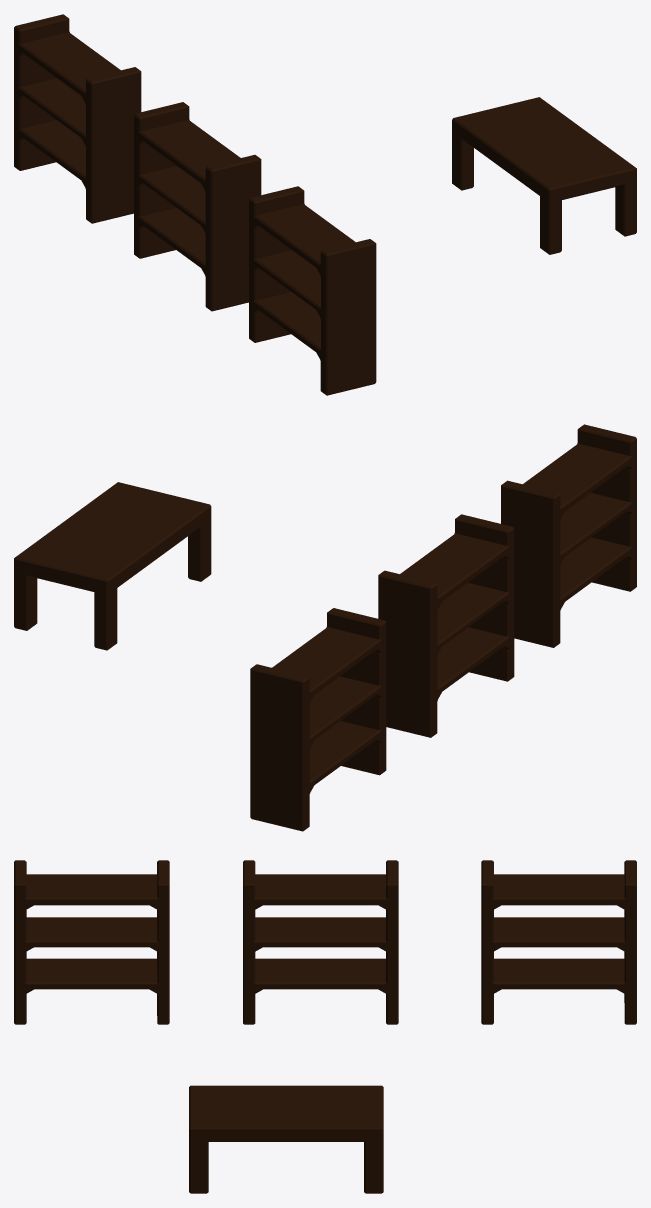
Rendered from shelf+table.fbx.
3 renders of one model, top to bottom at view 1: azimuth 30°, elevation 25°; view 2: azimuth 150°, elevation 25°; view 3: azimuth 270°, elevation 25°, orthographic. The views are drawn at different scales.
Visible parts, largest first — view 1: Shelf001, Shelf002, Shelf000, table; view 2: Shelf002, Shelf000, Shelf001, table; view 3: Shelf002, Shelf001, Shelf000, table.
Boxes of the visible parts, x1,y1,x2,y2 form: Shelf001: [249, 186, 376, 395]; Shelf002: [14, 14, 141, 223]; Shelf000: [134, 102, 261, 311]; table: [452, 97, 636, 254]; Shelf002: [250, 608, 386, 831]; Shelf000: [378, 514, 514, 737]; Shelf001: [501, 424, 636, 647]; table: [14, 482, 211, 650]; Shelf002: [481, 860, 636, 1024]; Shelf001: [14, 860, 169, 1024]; Shelf000: [243, 860, 398, 1024]; table: [189, 1085, 383, 1193].
Size of the model in its own units: 590 by 200 by 801.
